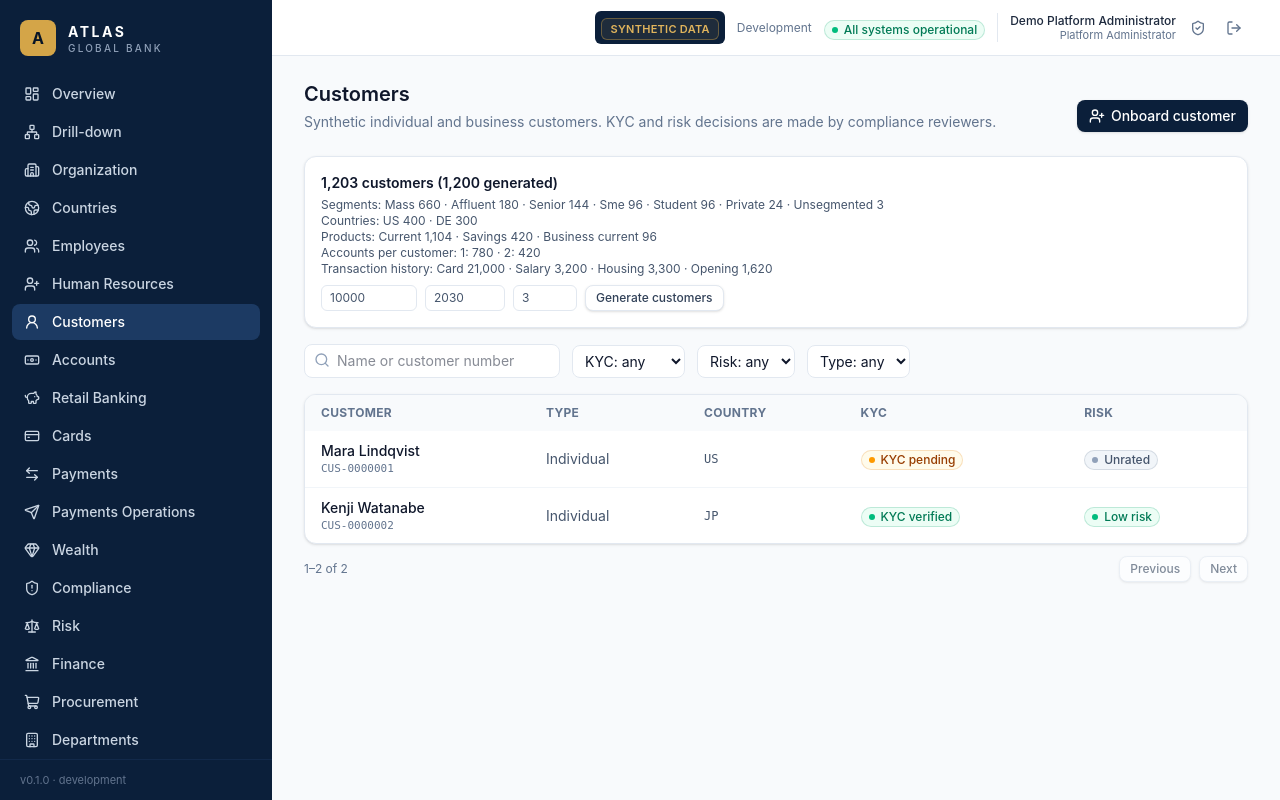
Test: Customers page › shows the customer base and generates customers (Phase 72)
Check: the text "1,203 customers (1,200 generated)" is shown, box [321,174,558,191]
Check: the text "Segments: Mass 660 · Affluent 180" is shown, box [321,197,884,212]
Replace the text in the number field named "Customers to generate" with "500" at [369, 298], box [321,285,417,311]
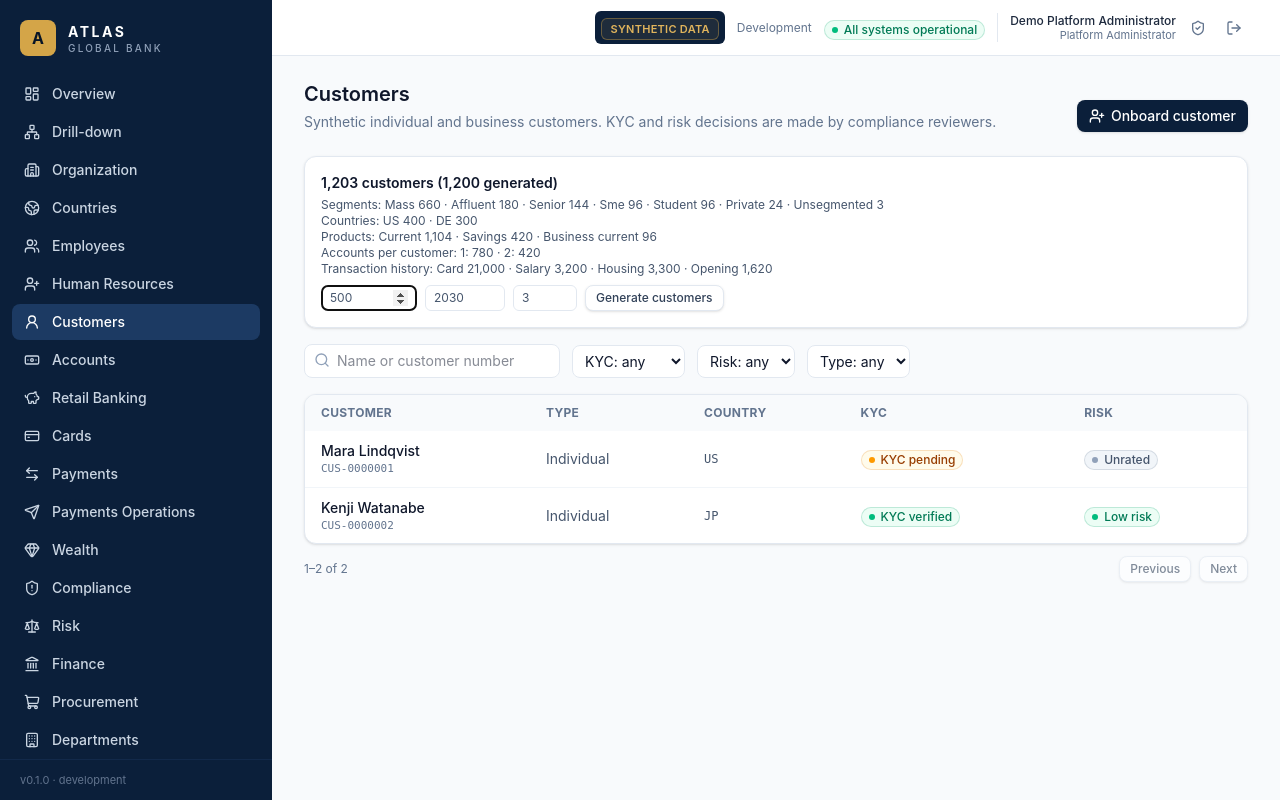
Replace the text in the number field named "Months of history" with "2" at [545, 298], box [513,285,577,311]
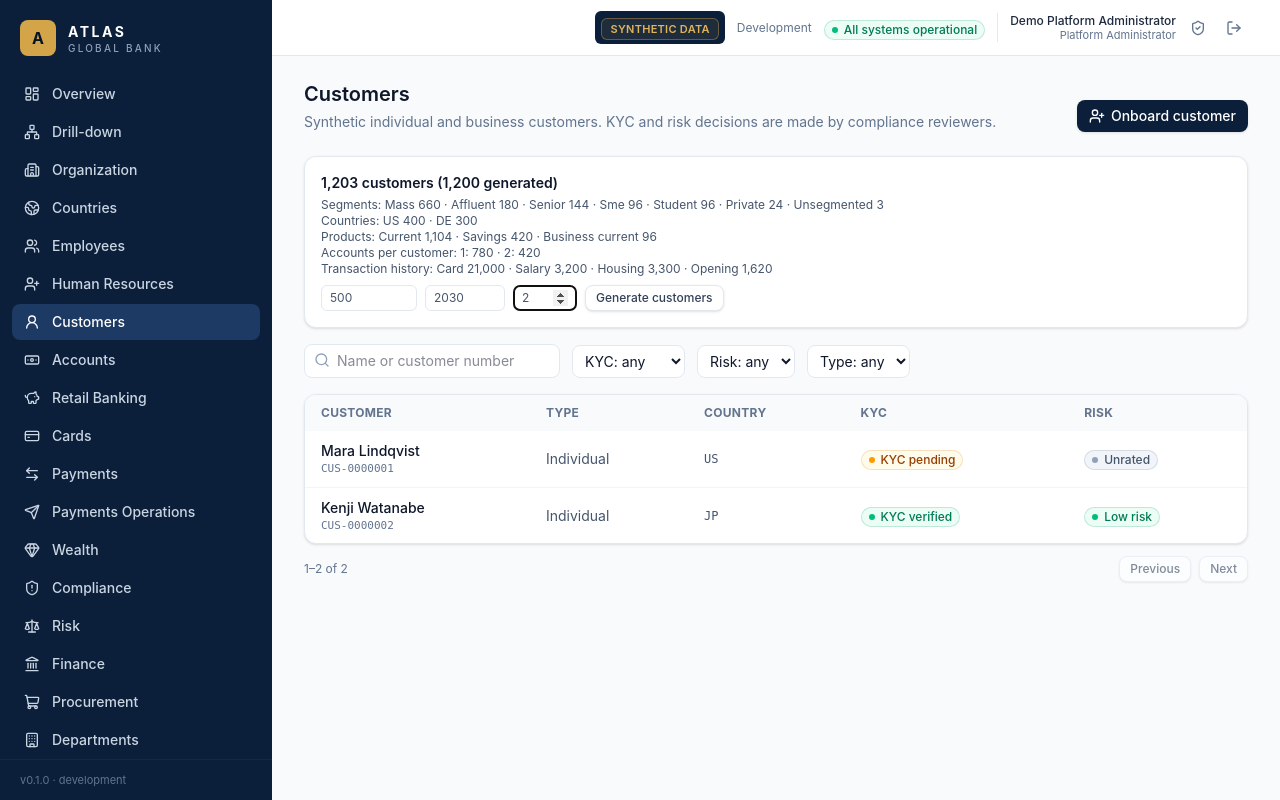
Click the button "Generate customers" at [654, 298], box [585,285,724,311]
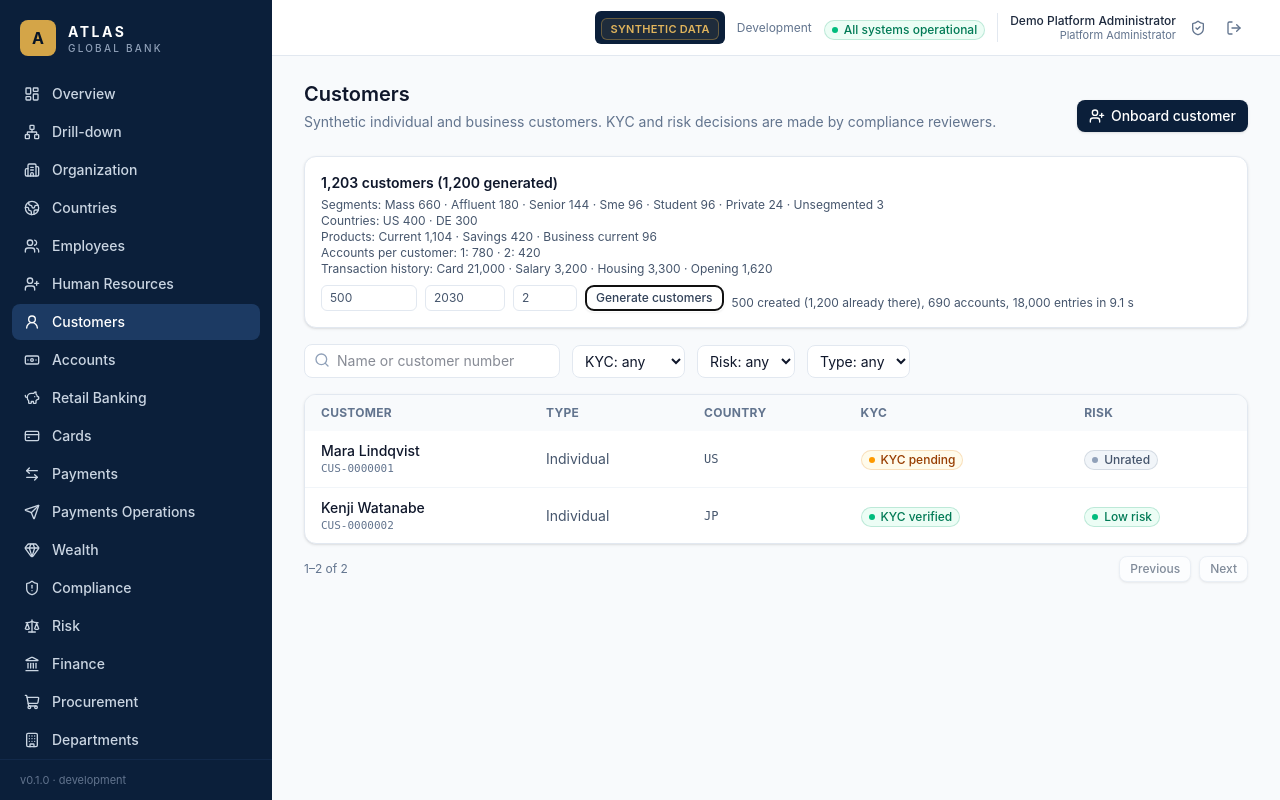
Check: the message reads "500 created (1,200 already there), 690 accounts, 18,000 entries in 9.1 s", box [732,295,1134,311]
